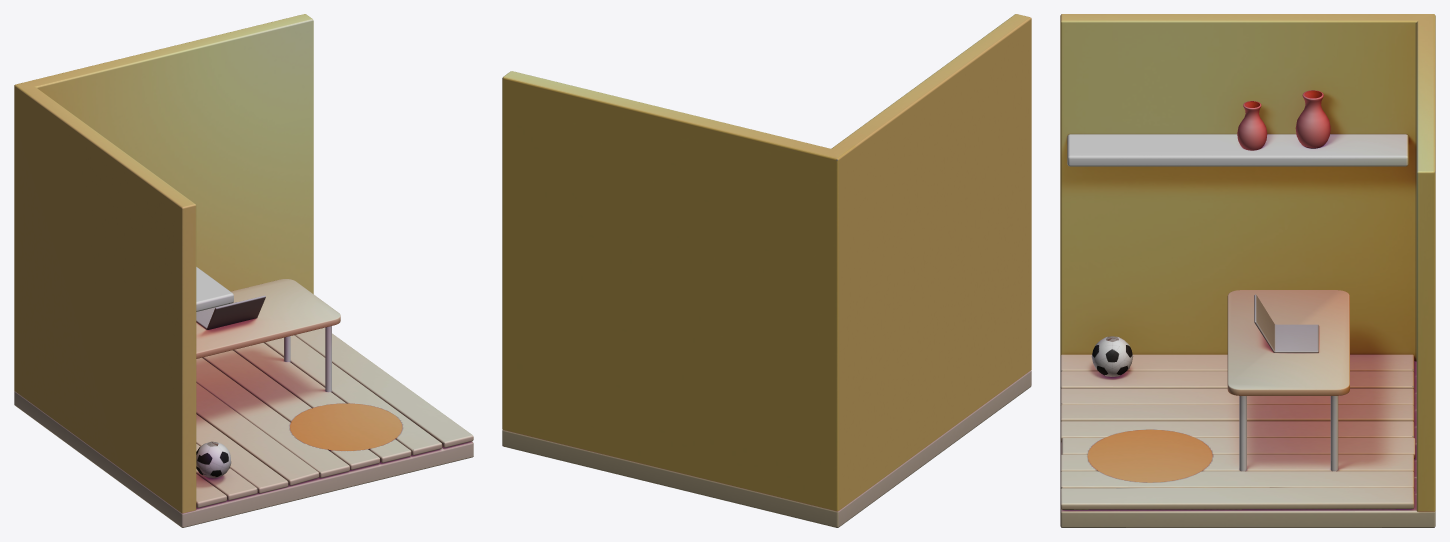
The picture shows the model from 3 angles, left to right: view 1: azimuth 30°, elevation 25°; view 2: azimuth 150°, elevation 25°; view 3: azimuth 270°, elevation 25°; orthographic projection. The views are drawn at different scales.
Parts seen in each view (by area): view 1: Geometry; view 2: Geometry; view 3: Geometry.
Part boxes in pixels (x1,y1,x2,y2): Geometry: (14, 14, 473, 527); Geometry: (502, 14, 1031, 527); Geometry: (1060, 14, 1435, 527).
Size of the model in its own units: 2 by 2.1 by 2.
1 material, 1 textured.
